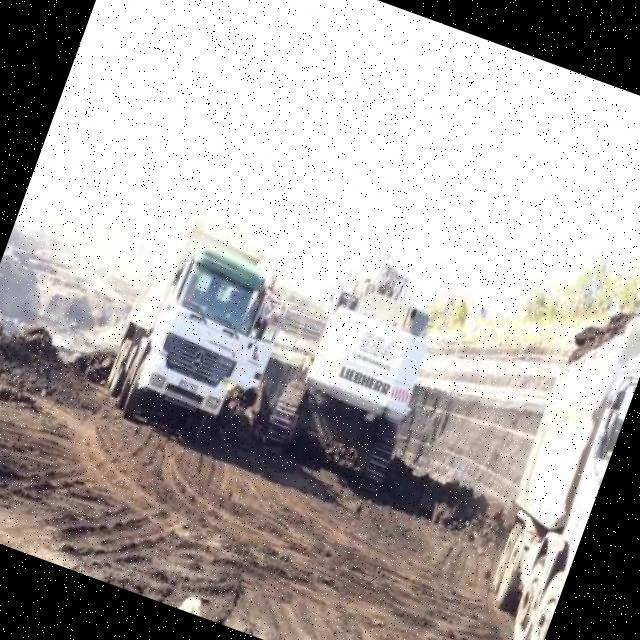Dump Truck: (453, 259, 640, 640), (90, 204, 304, 460)
Excavator: (252, 227, 461, 507)
